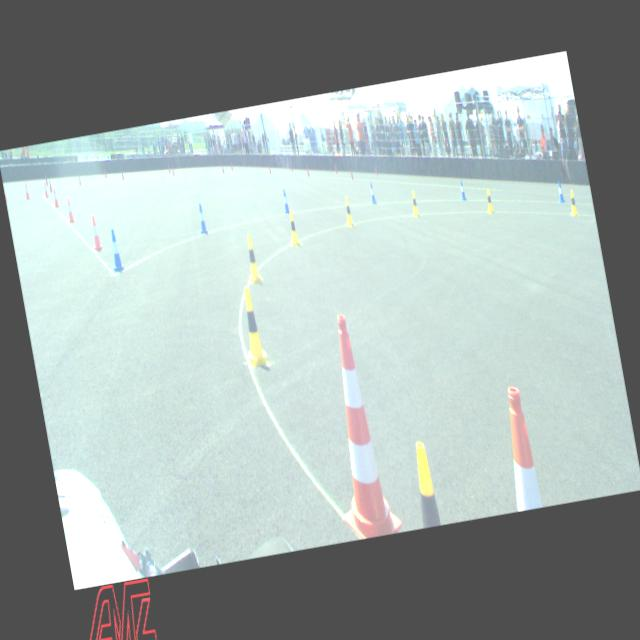blue_cone: (106, 228, 125, 272), (196, 202, 208, 234), (280, 188, 290, 214), (367, 182, 376, 204), (556, 180, 565, 202), (458, 180, 466, 200)
large_orange_cone: (310, 311, 402, 541), (496, 385, 542, 511)
orange_cone: (88, 214, 103, 250), (64, 198, 74, 222), (51, 187, 59, 207), (23, 182, 30, 198), (42, 181, 48, 197), (3, 185, 7, 201)
unknown_cone: (44, 174, 49, 186), (48, 180, 52, 192), (78, 173, 82, 185), (120, 169, 124, 180), (349, 168, 353, 179)
yellow_cone: (234, 286, 268, 368), (408, 441, 440, 528), (242, 233, 262, 283), (285, 209, 300, 246), (342, 197, 353, 226), (567, 190, 578, 216), (409, 190, 419, 216), (484, 188, 494, 213)
